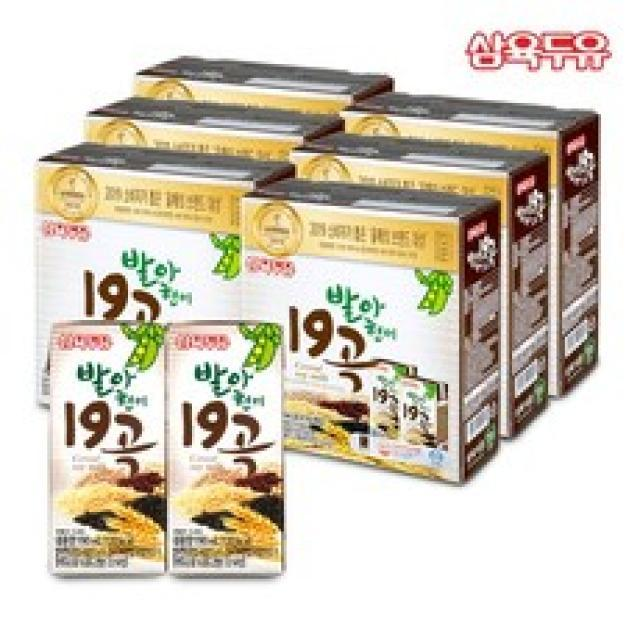Tetra: (39, 310, 172, 600), (159, 313, 297, 588)
